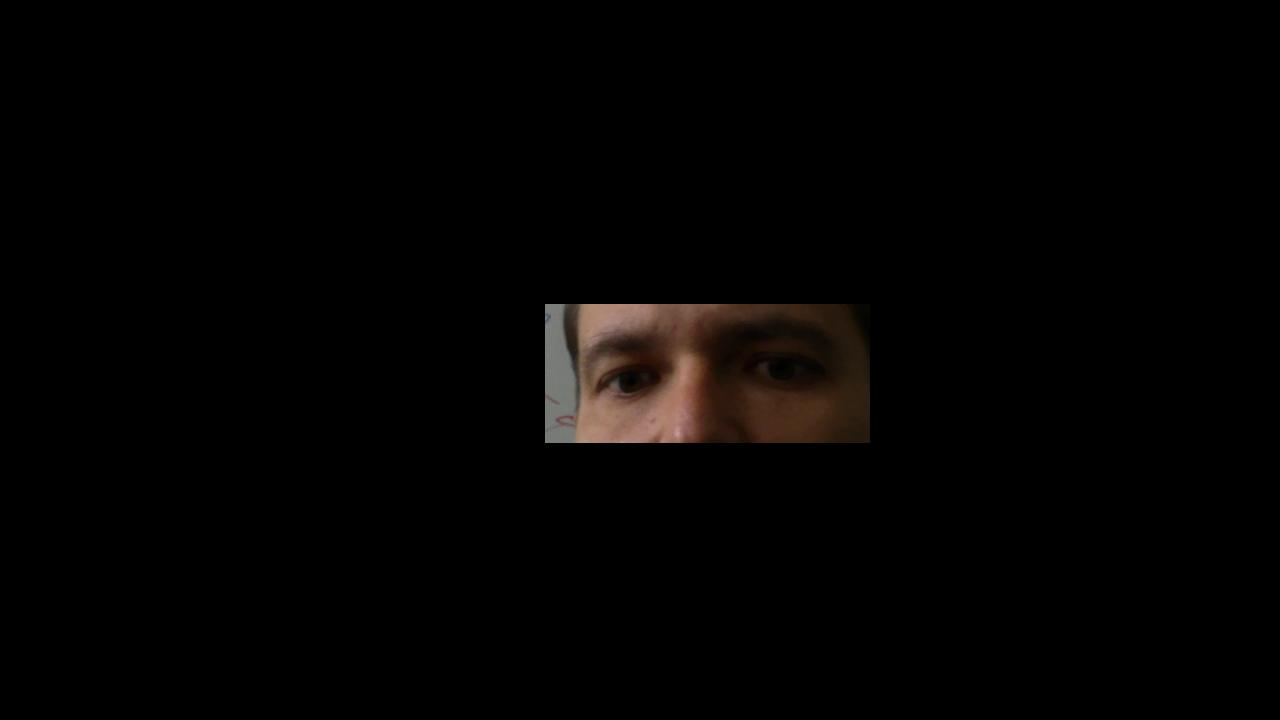eye: (766, 355, 799, 380), (615, 370, 643, 388)
